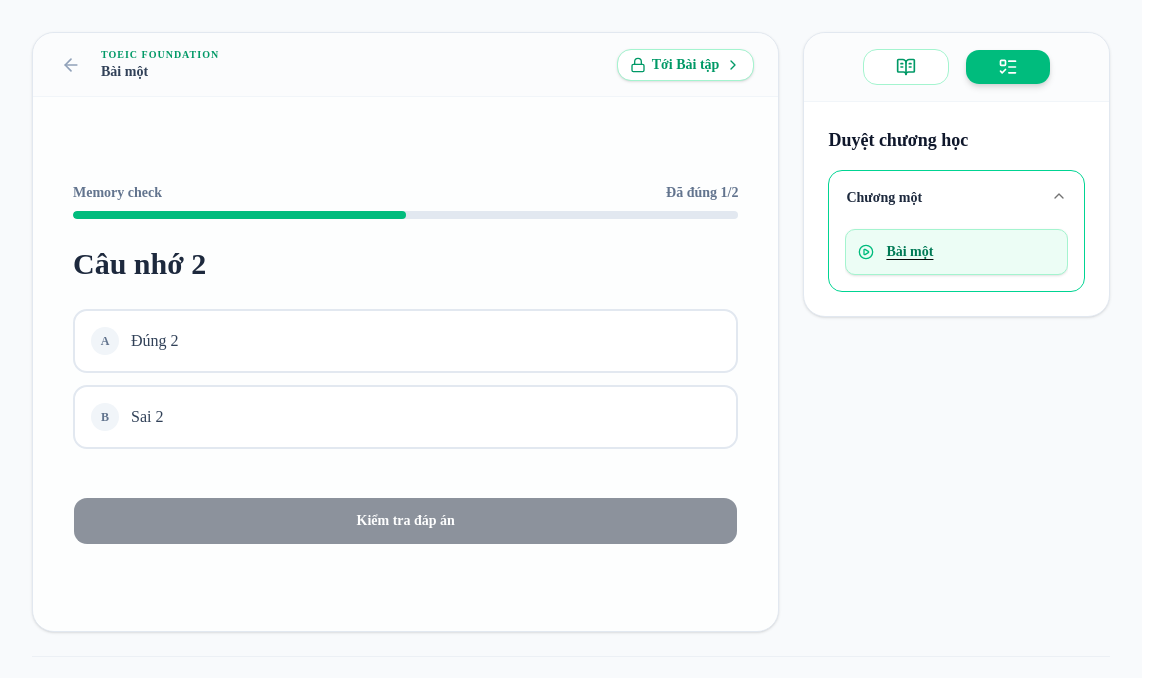
Test case: D3 memory check stage › unlocks exercises once the server reports the memory check passed
This screenshot has width=1152, height=678.
Click the radio button labelled "A Đúng 2".
click(155, 340)  # box [73,309,738,373]
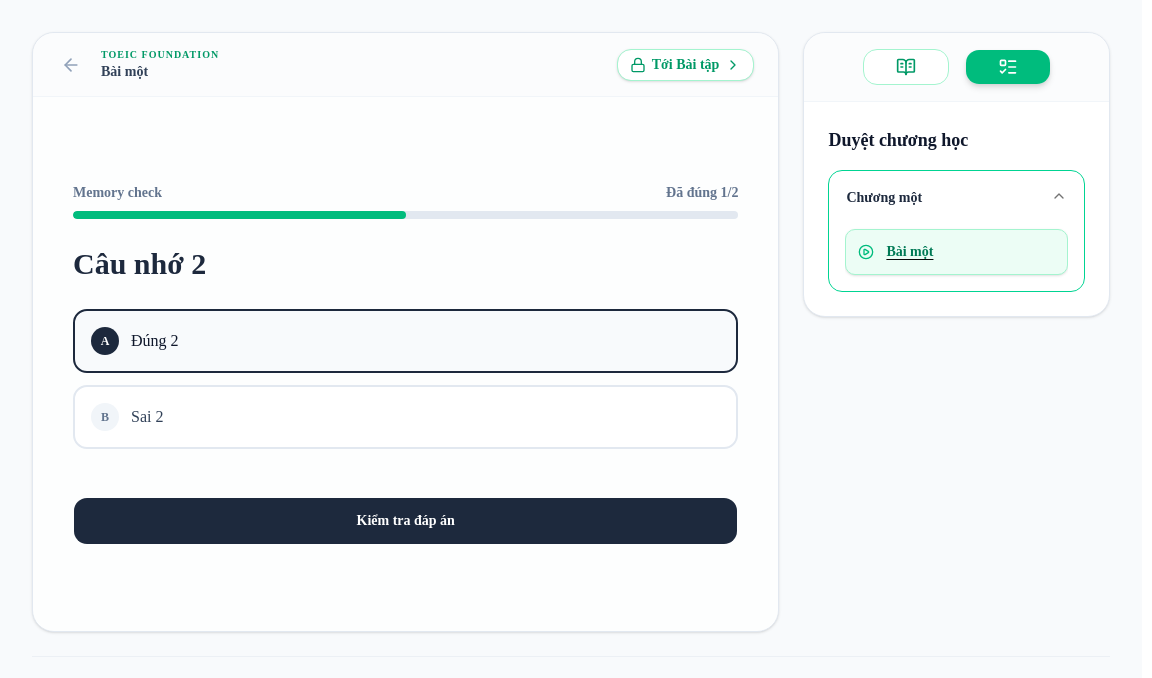
Click the button "Kiểm tra đáp án".
click(406, 521)  # box [73,497,738,545]
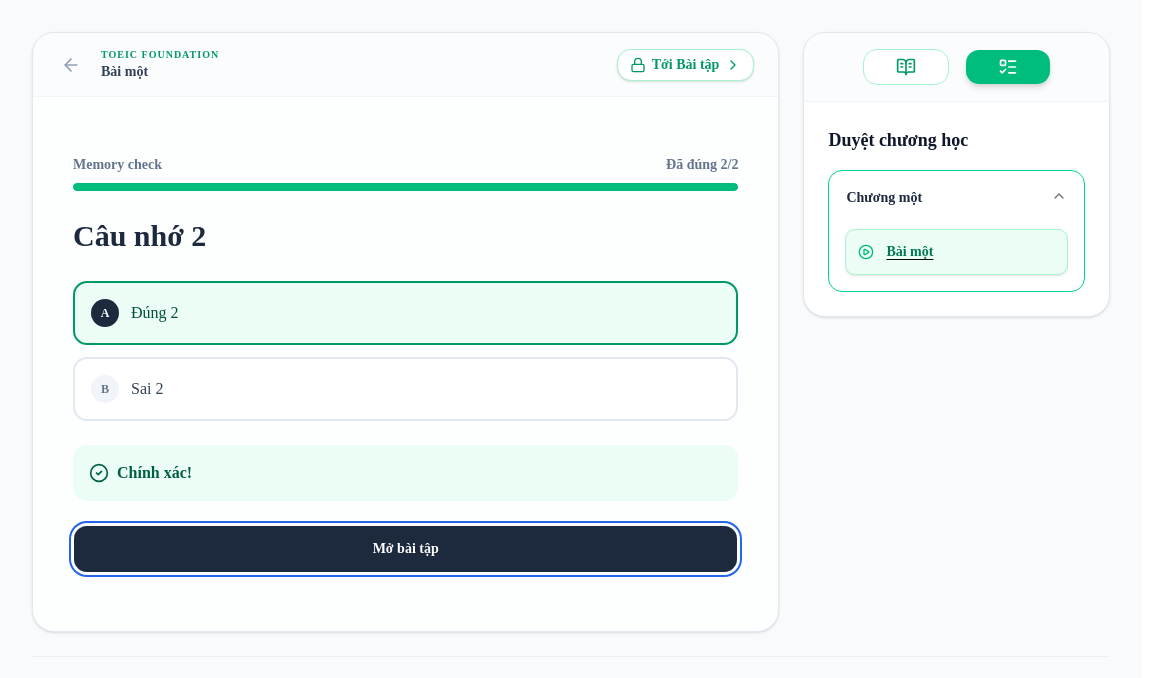
Click the button "Mở bài tập".
click(406, 549)  # box [73,525,738,573]
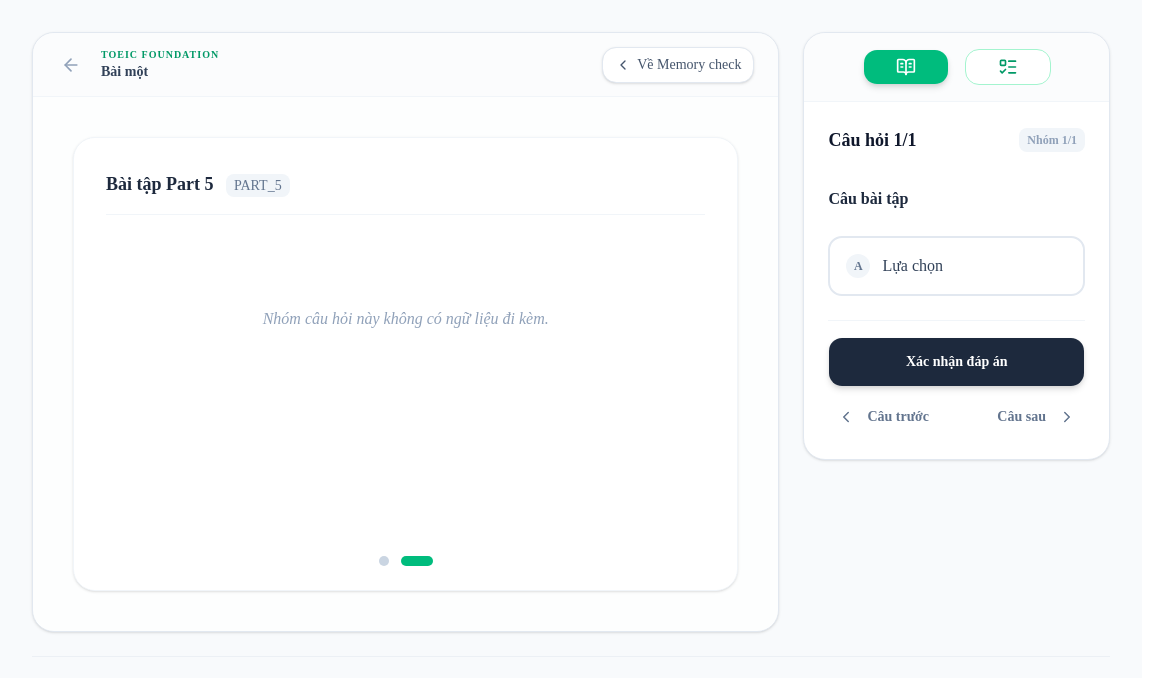
Check: the heading "Bài tập Part 5 part_5" is shown, box [106,174,290,197]
Check: the text "Câu bài tập" is shown, box [828,190,908,207]
Check: the button "Về Memory check" is shown, box [602,46,754,82]
